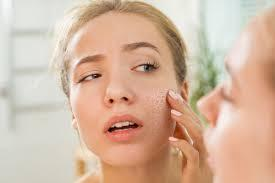Dry-Skin: (77, 18, 103, 46), (62, 25, 79, 46), (150, 108, 164, 120), (150, 91, 162, 98)
